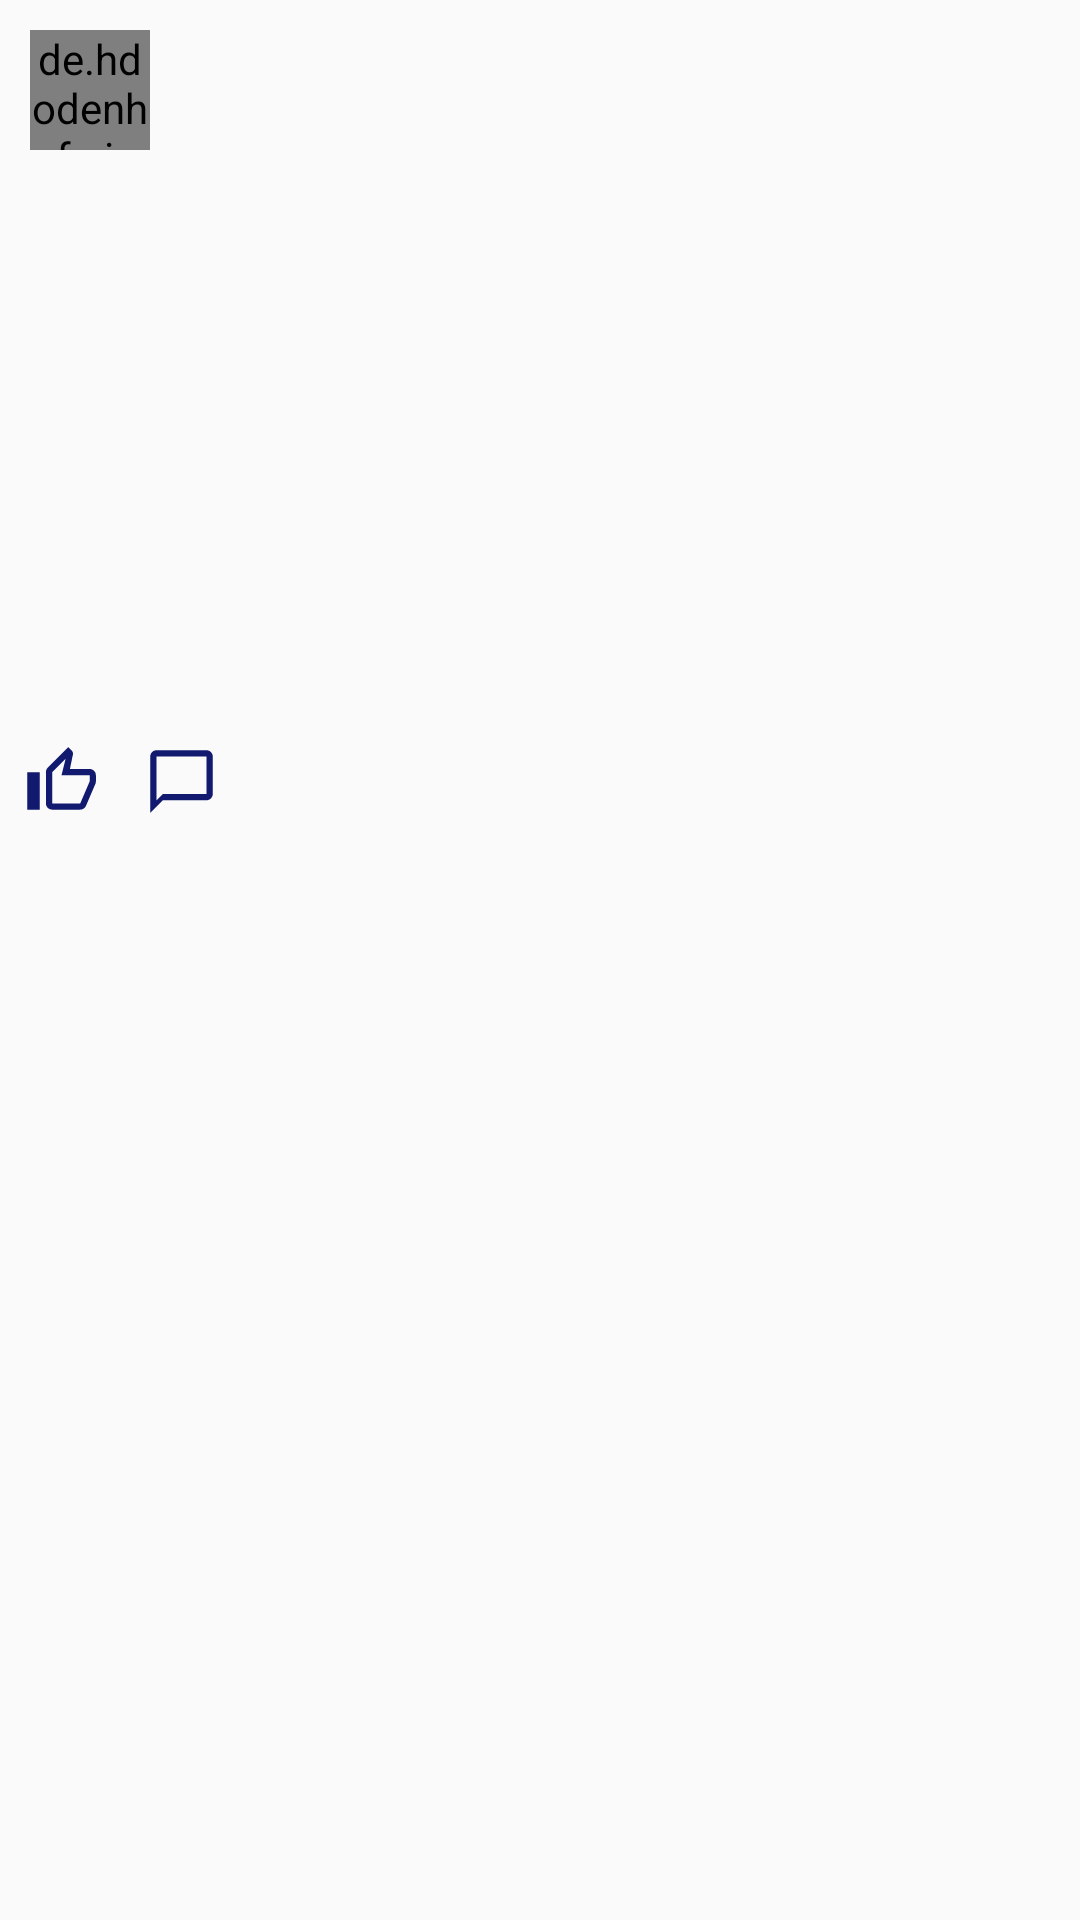

Locate icon controls on the screen. Image size 1080 × 1920, boxes as region(x1, y1, x2, y2).
comment: region(150, 750, 213, 813)
like: region(27, 747, 96, 810)
